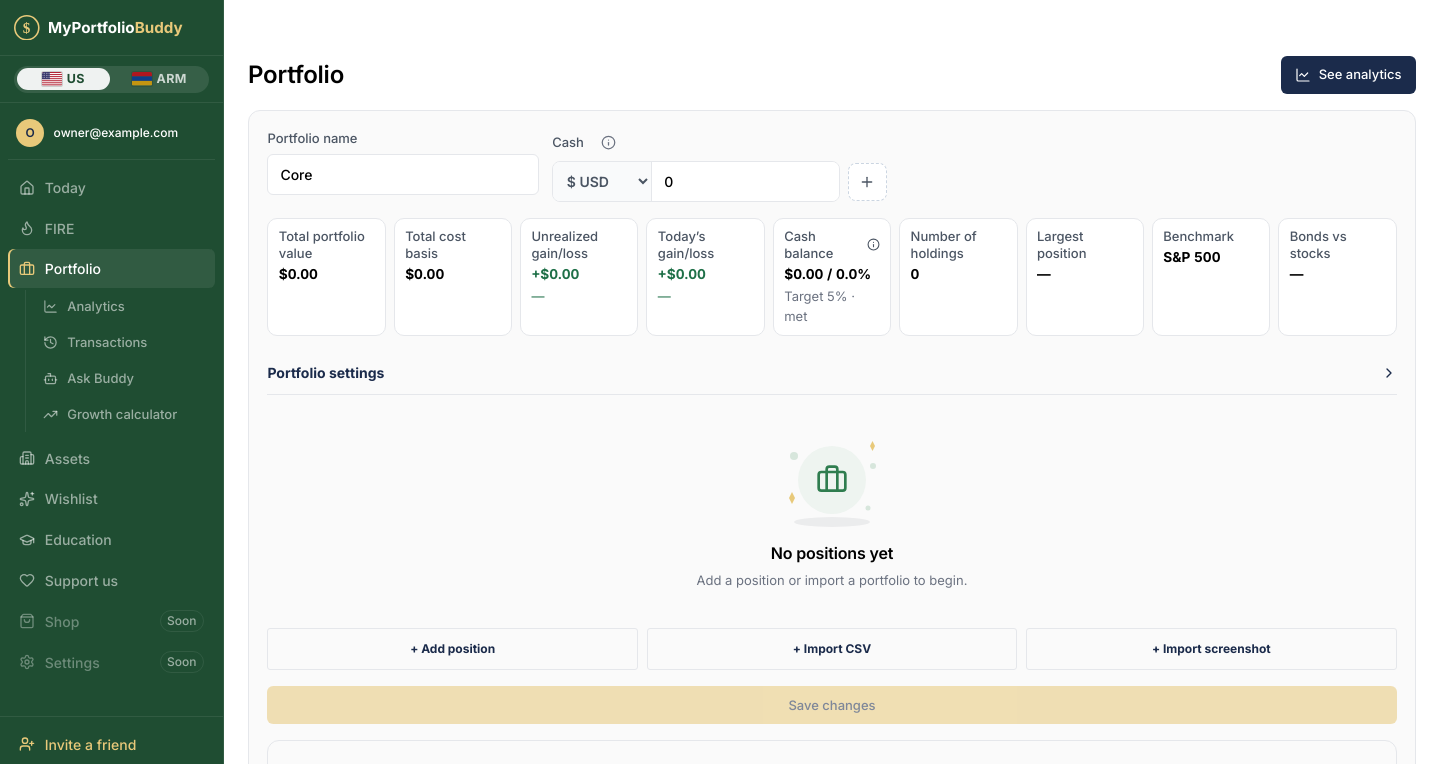
Test: Dashboard navigation › loads persisted transaction history for the selected portfolio
Click the button "Transactions". click: point(124, 343)
box: [33, 326, 215, 360]
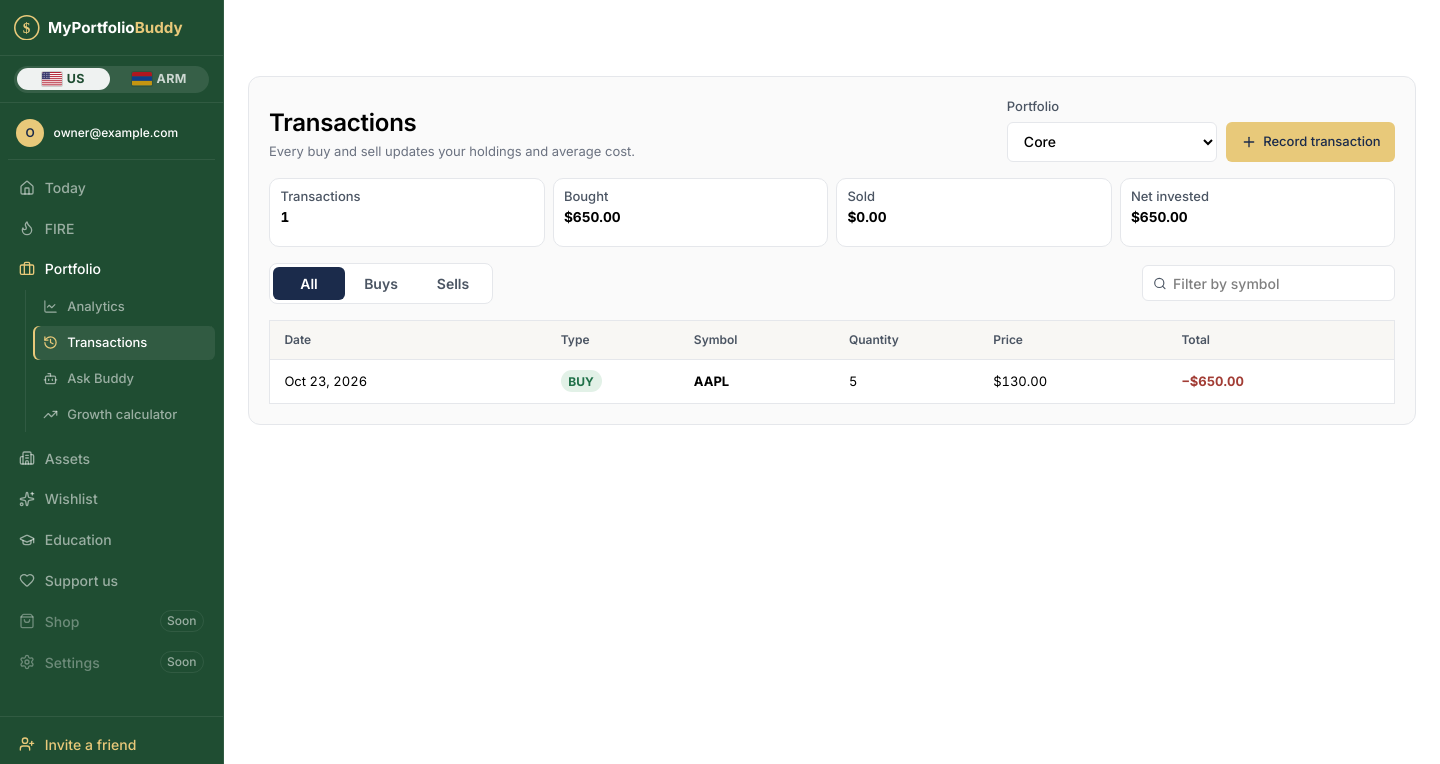
Check: the text "AAPL" is shown, box [694, 373, 729, 389]
Check: the text "Buy" is shown, box [561, 370, 602, 392]
Check: the text "−$650.00" is shown, box [1181, 373, 1244, 389]
